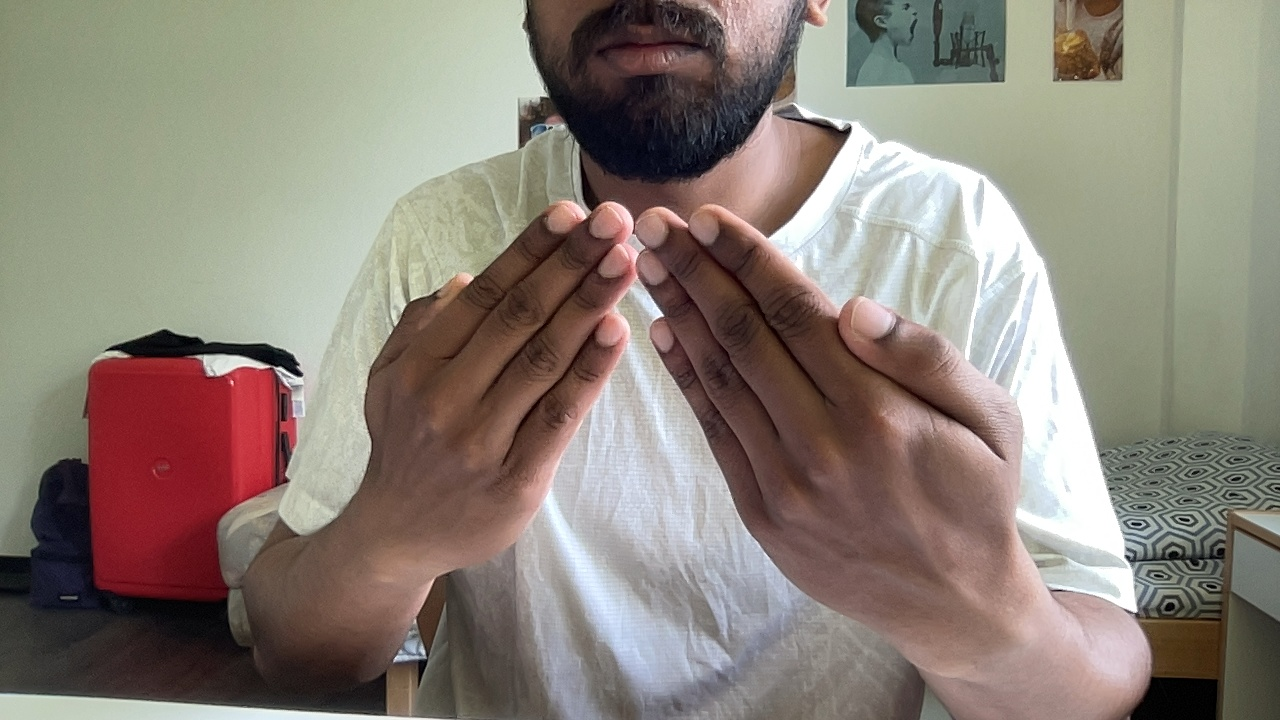ThankYou: (364, 197, 1023, 638)
